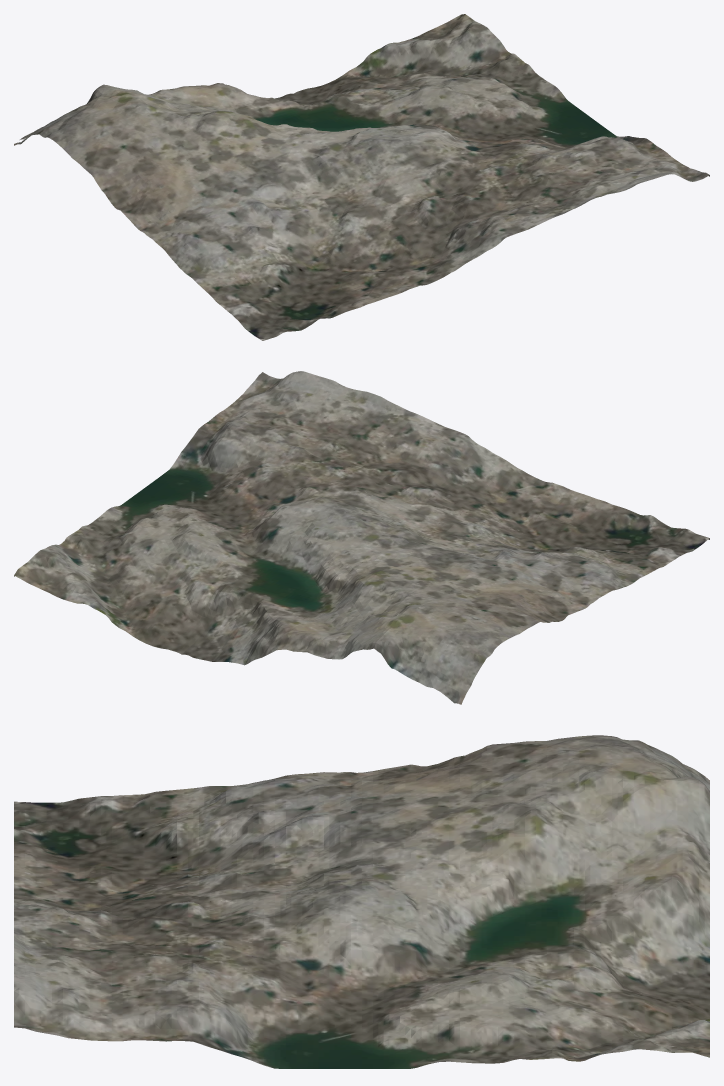
3 views of the same model, one above another, from view 1: azimuth 30°, elevation 25°; view 2: azimuth 150°, elevation 25°; view 3: azimuth 270°, elevation 25° (orthographic). The views are drawn at different scales.
Size of the model in its own units: 250 by 38.77 by 241.
Materials: 1 (1 with a texture image).
